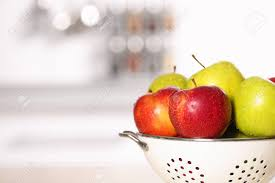apple: (170, 90, 229, 139), (130, 88, 182, 137), (237, 75, 275, 138), (190, 64, 242, 105), (150, 70, 189, 95)
